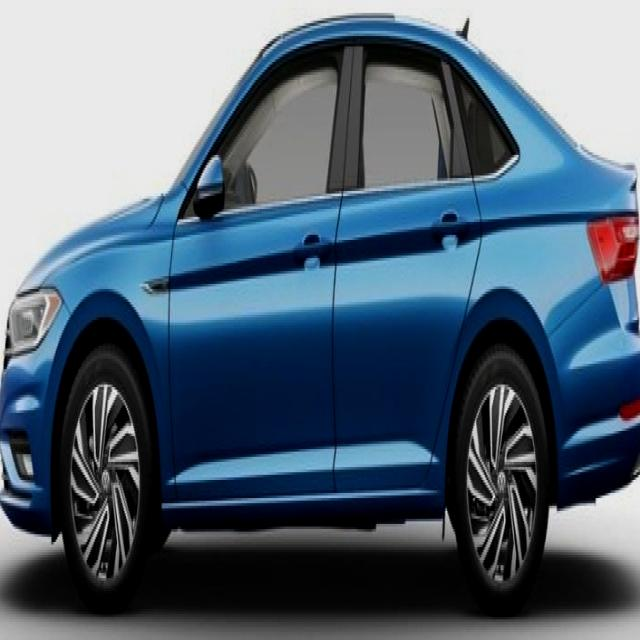blue: (4, 17, 640, 588)
